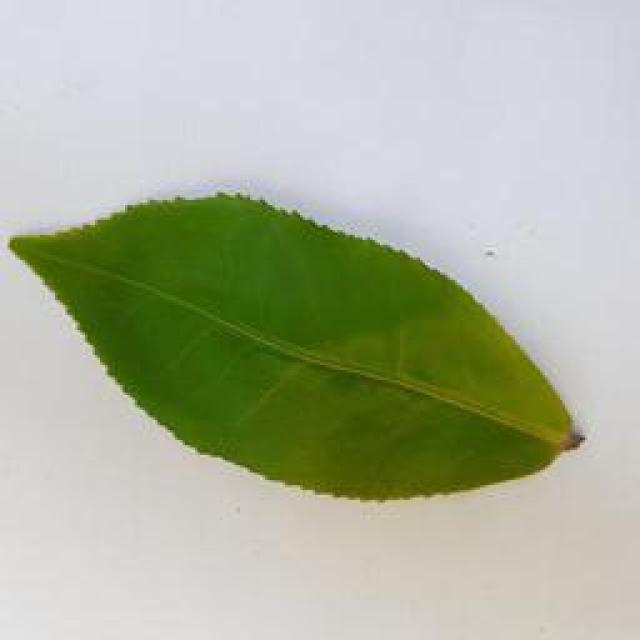Healthy: (0, 173, 589, 507)
